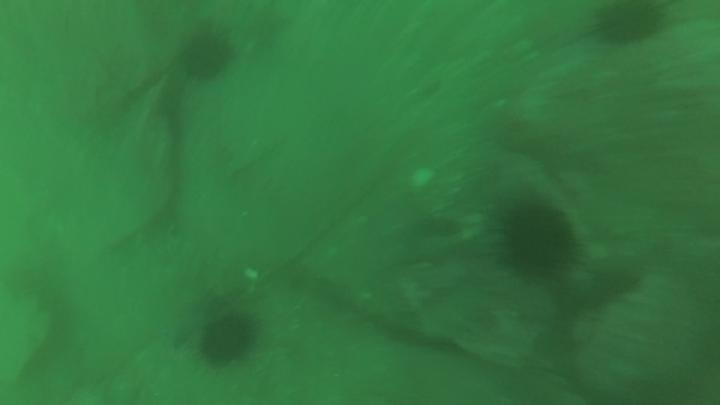echinus: (495, 198, 579, 281), (195, 308, 260, 369), (590, 1, 668, 48), (177, 25, 237, 84)
starfish: (508, 104, 610, 181)
